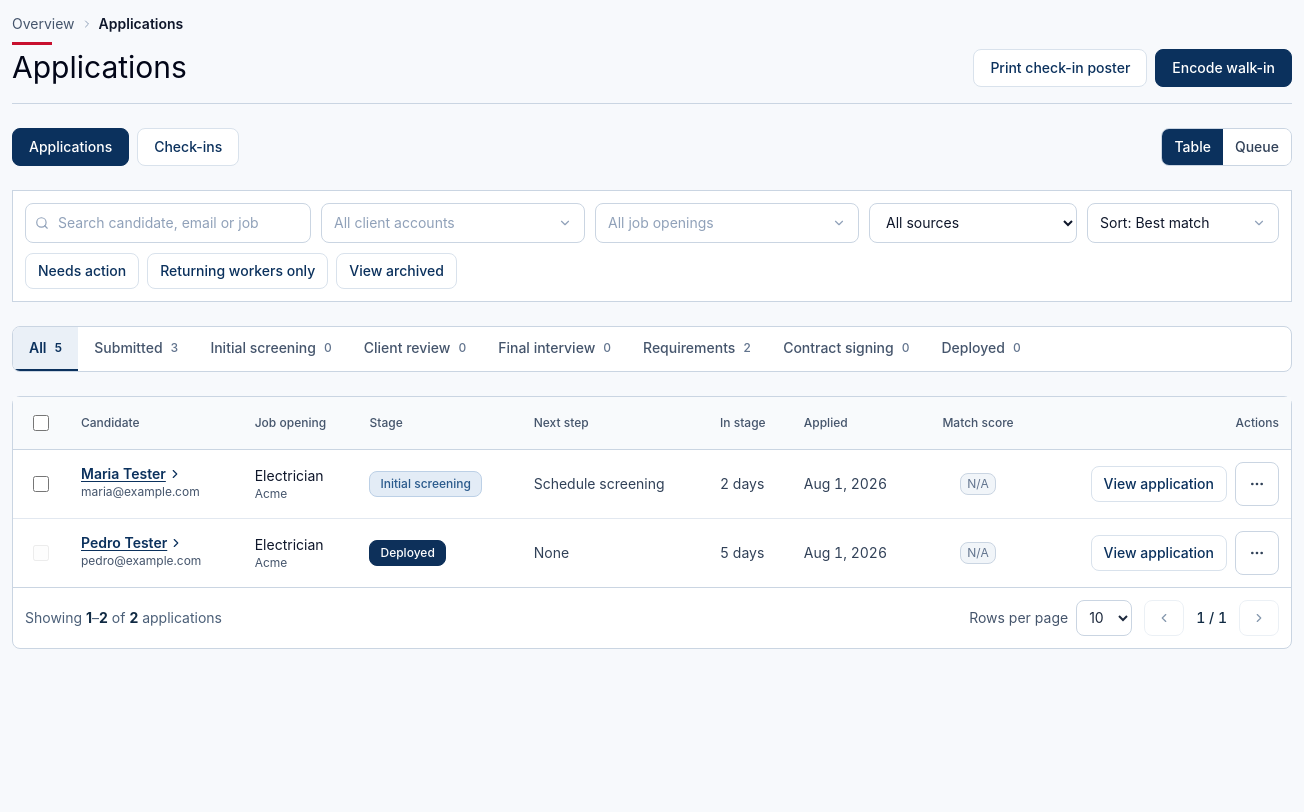
Test case: TA applications list controls › leaves deployed workers out of select all, so Reject stays available
Click the checkbox named "Select all rows on this page" at (41, 422), box [33, 414, 49, 430]
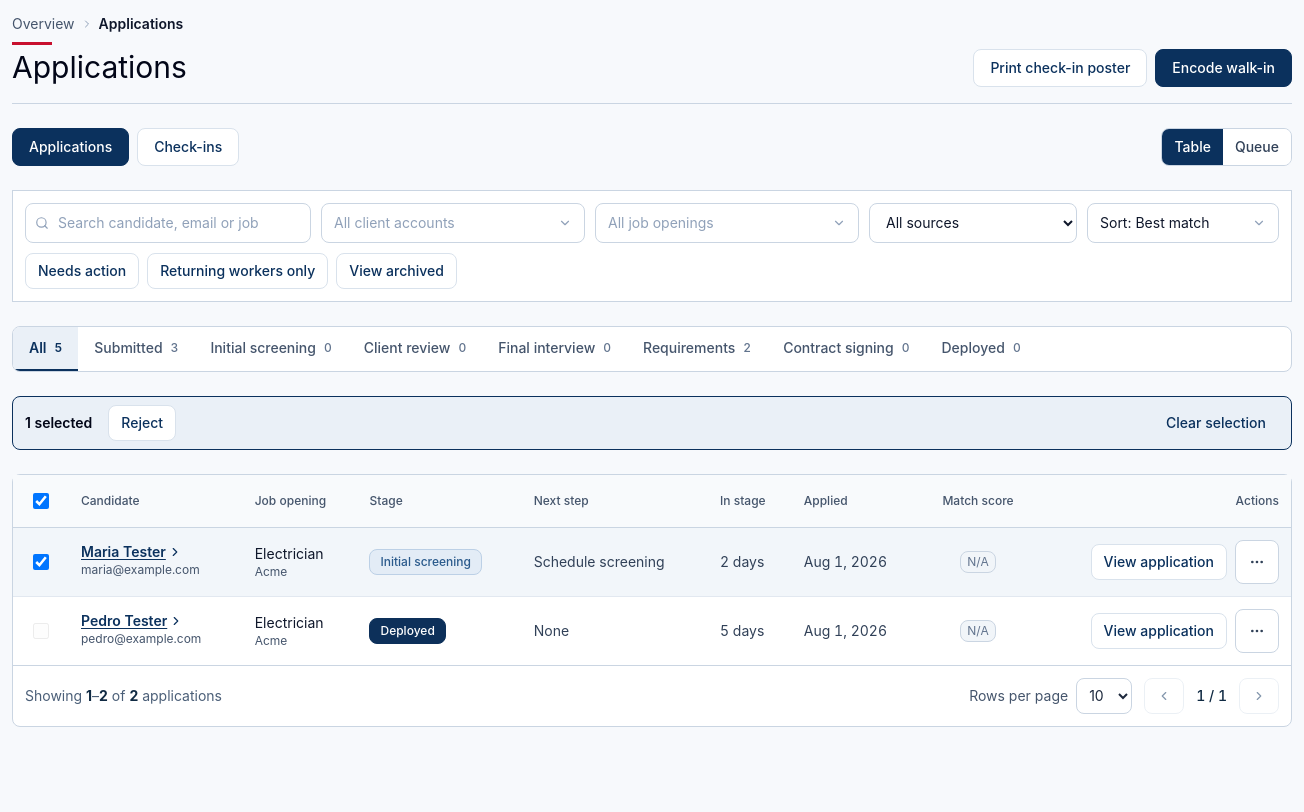
Result: the checkbox named "Select Maria Tester" is checked at [33, 554, 49, 570]
Result: the text "1 selected" is shown at [25, 412, 92, 432]
Result: the button "Reject" is shown at [108, 404, 176, 440]
